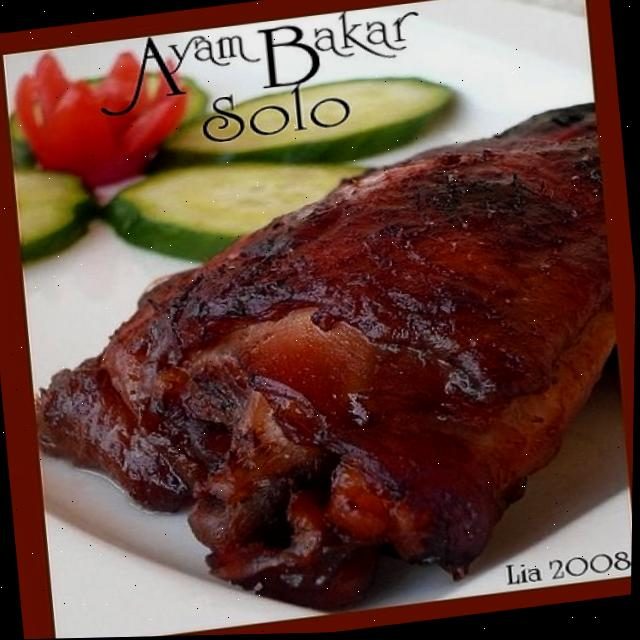鸡肉料理 含炸鸡: (35, 39, 625, 630)
